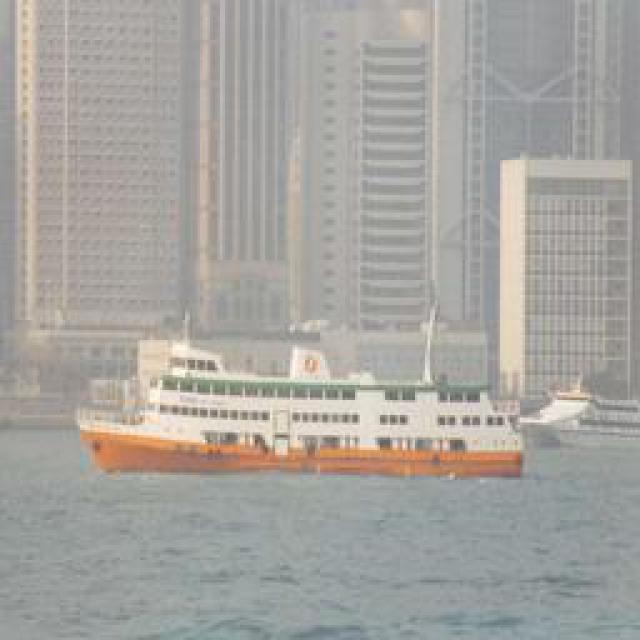Ship: (81, 330, 531, 480)
